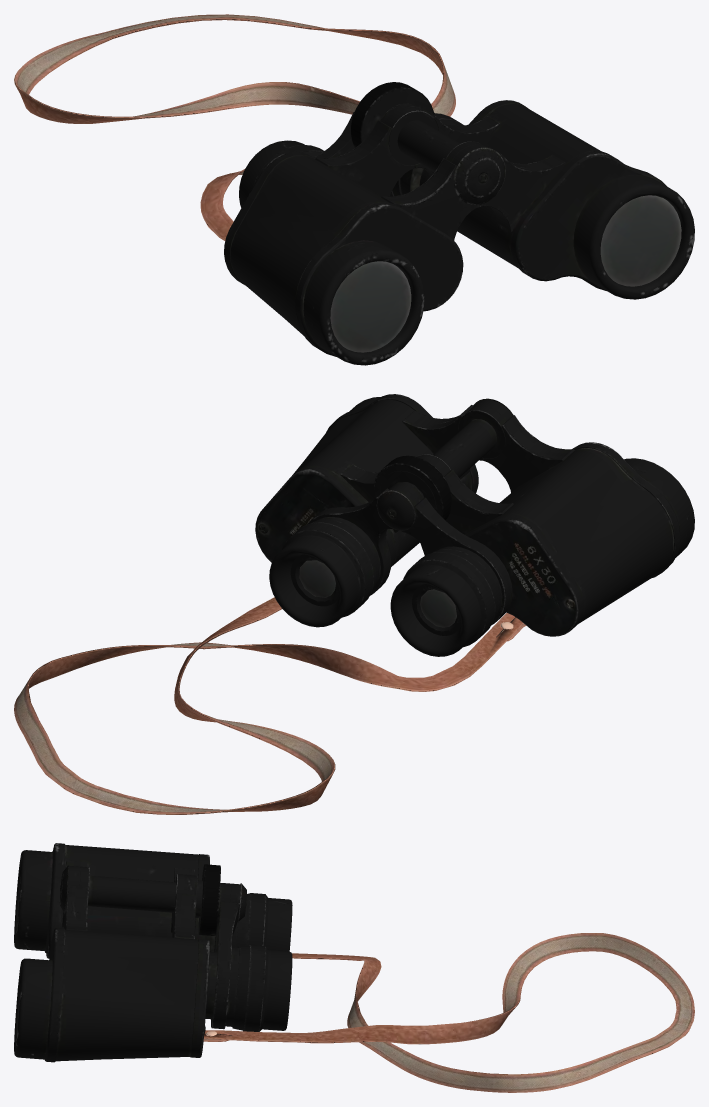
The model's file is binoculars.glb.
3 views of the same model, one above another, from view 1: azimuth 30°, elevation 25°; view 2: azimuth 150°, elevation 25°; view 3: azimuth 270°, elevation 25° (orthographic). The views are drawn at different scales.
Parts seen in each view (by area): view 1: binoculars_left, binoculars_strap; view 2: binoculars_left, binoculars_strap; view 3: binoculars_left, binoculars_strap.
Part boxes in pixels (x1,y1,x2,y2): binoculars_left: (224,82,694,365); binoculars_strap: (14,14,455,240); binoculars_left: (255,394,694,656); binoculars_strap: (14,597,526,814); binoculars_left: (14,843,292,1062); binoculars_strap: (203,933,694,1092).
Bounding box in the file's own units: 0.1669 × 0.0663 × 0.2879.
2 materials, 2 textured.
